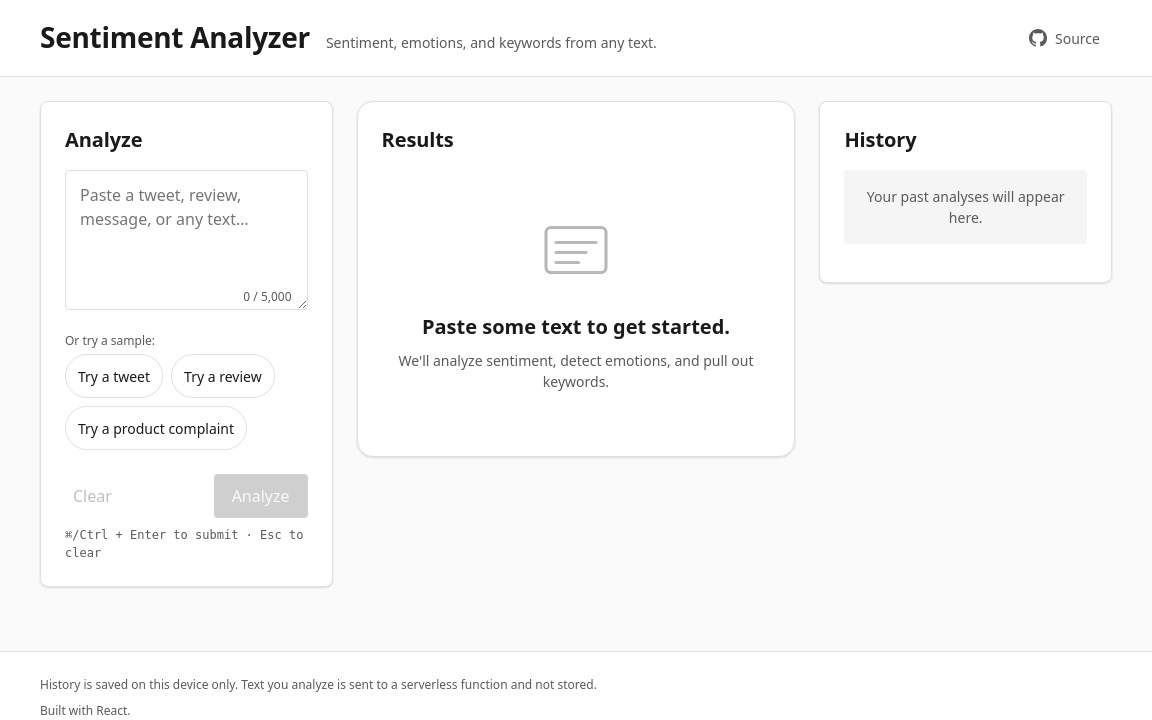
App: history persistence (regression catcher) › retry success adds one more history entry, not many
The image size is (1152, 720).
Type "I love this" into the text box named "Text to analyze" at coordinates (186, 240), box [65,170,308,310]
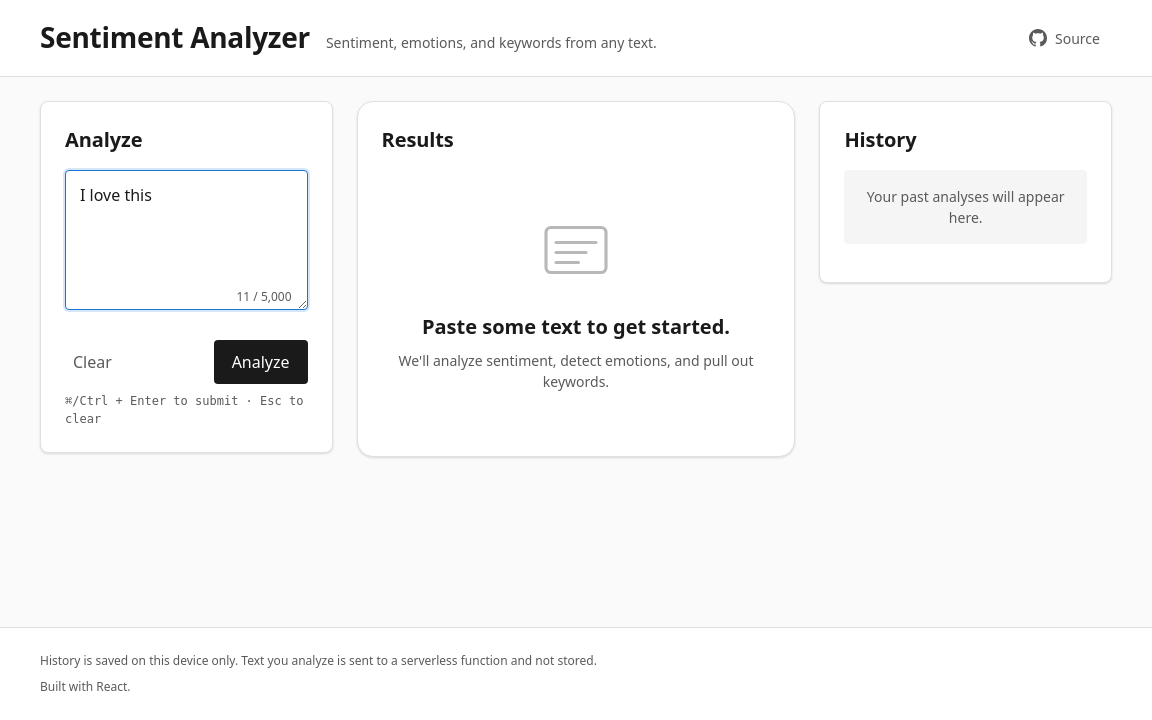
Click the button "Analyze" at coordinates (261, 362), box [214,340,308,384]
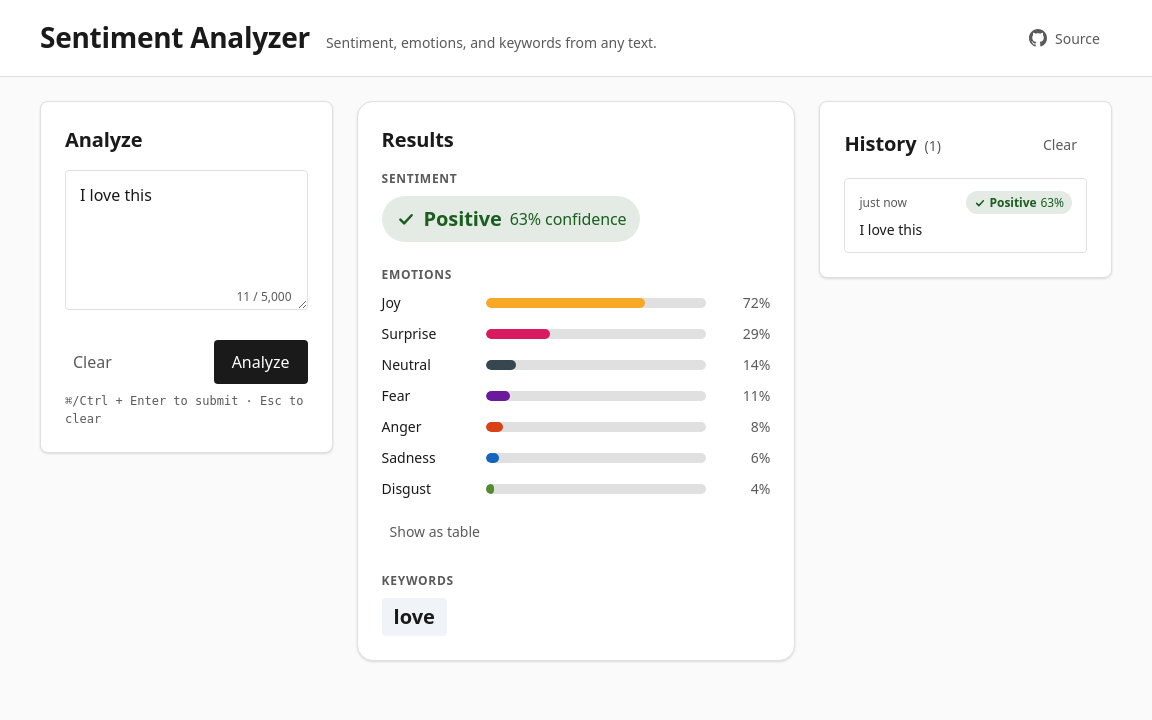
Now the number of list items is 1, box [844,178,1087,253]
Submit a different input — produces a new entry.
Replace the text in the text box named "Text to analyze" with "I hate this" at coordinates (186, 240), box [65,170,308,310]
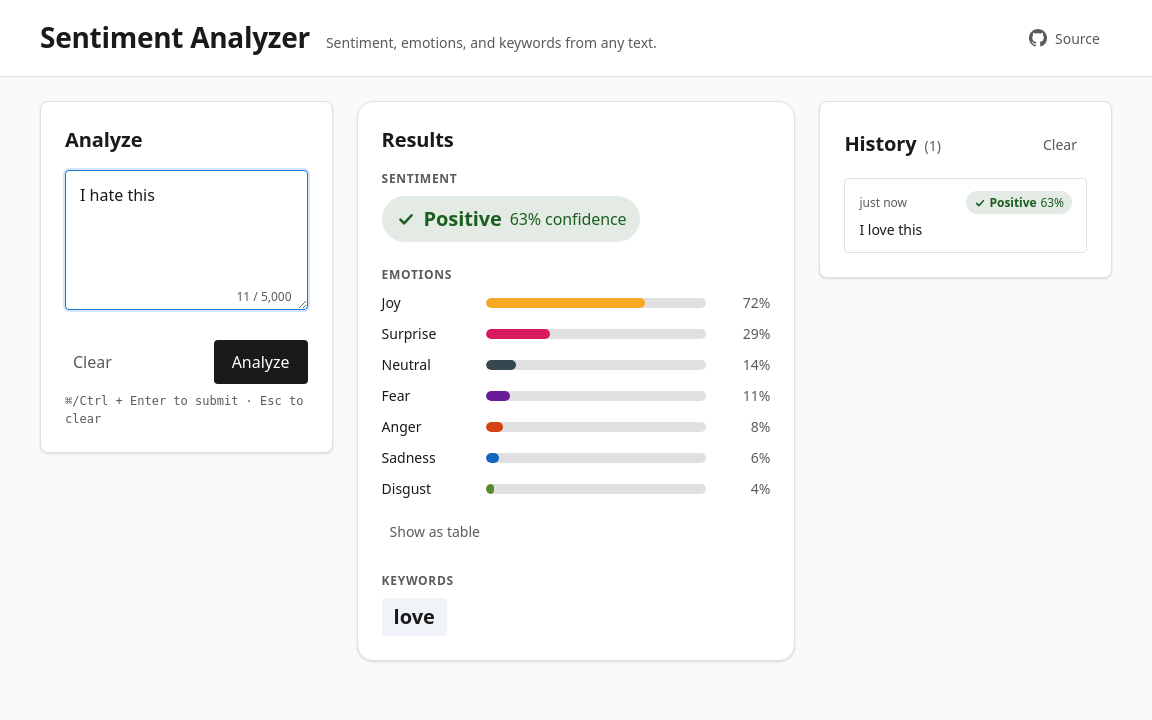
Click the button "Analyze" at coordinates (261, 362), box [214,340,308,384]
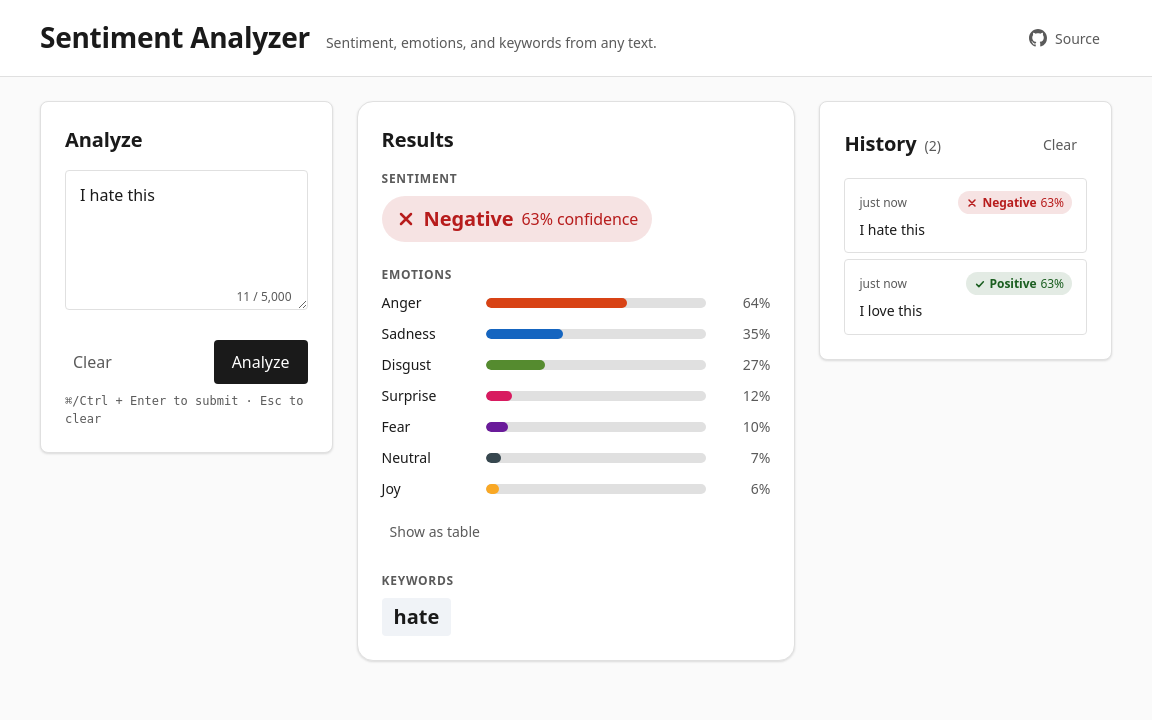
Now the number of list items is 2, box [844,178,1087,253]; [844,259,1087,335]
